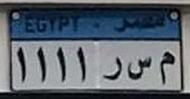1: (56, 45, 66, 84), (77, 45, 86, 82), (17, 45, 26, 81), (37, 46, 45, 82)
meem: (159, 49, 175, 84)
raa: (103, 54, 122, 81)
seen: (126, 54, 153, 81)
